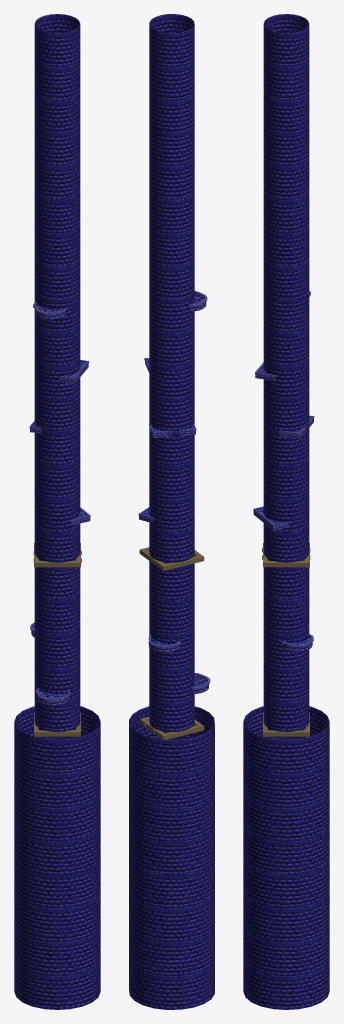
File: Lvl1_01.fbx
3 renders of one model, left to right at view 1: azimuth 90°, elevation 25°; view 2: azimuth 210°, elevation 25°; view 3: azimuth 270°, elevation 25°, orthographic.
Parts seen in each view (by area): view 1: pPipe7, pPipe8, pPipe9, pPipe13, pPipe12, pPipe14, pPipe10, pPipe11, pPipe31, pPipe2, pPipe17, pPipe22 (+22 smaller); view 2: pPipe7, pPipe8, pPipe9, pPipe13, pPipe12, pPipe14, pPipe10, pPipe11, pPipe31, pPipe26, pPipe28, pPipe22 (+23 smaller); view 3: pPipe7, pPipe8, pPipe9, pPipe14, pPipe12, pPipe13, pPipe11, pPipe10, pPipe31, pPipe1, pPipe26, pPipe22 (+22 smaller).
Part boxes in pixels (box(x1,y1,x2,y2)): pPipe7: box(14, 706, 100, 773); pPipe8: box(14, 737, 100, 807); pPipe9: box(14, 790, 100, 841); pPipe13: box(14, 924, 100, 976); pPipe12: box(14, 890, 100, 942); pPipe14: box(14, 958, 100, 1009); pPipe10: box(14, 824, 100, 875); pPipe11: box(14, 857, 100, 908); pPipe31: box(34, 14, 80, 67); pPipe2: box(34, 624, 80, 667); pPipe17: box(34, 388, 80, 431); pPipe22: box(34, 323, 80, 366); pPipe7: box(129, 706, 214, 773); pPipe8: box(129, 737, 214, 807); pPipe9: box(129, 788, 214, 841); pPipe13: box(129, 923, 214, 976); pPipe12: box(129, 889, 214, 942); pPipe14: box(129, 957, 214, 1009); pPipe10: box(129, 822, 214, 875); pPipe11: box(129, 856, 214, 908); pPipe31: box(149, 14, 194, 67); pPipe26: box(149, 190, 194, 233); pPipe28: box(149, 122, 194, 165); pPipe22: box(149, 323, 194, 366); pPipe7: box(243, 706, 329, 773); pPipe8: box(243, 737, 329, 807); pPipe9: box(243, 790, 329, 841); pPipe14: box(243, 958, 329, 1009); pPipe12: box(243, 890, 329, 942); pPipe13: box(243, 924, 329, 976); pPipe11: box(243, 856, 329, 908); pPipe10: box(243, 824, 329, 875); pPipe31: box(263, 14, 309, 66); pPipe1: box(263, 659, 309, 702); pPipe26: box(263, 190, 309, 233); pPipe22: box(263, 323, 309, 366).
Size of the model in its own units: 37.62 by 466 by 37.62.
